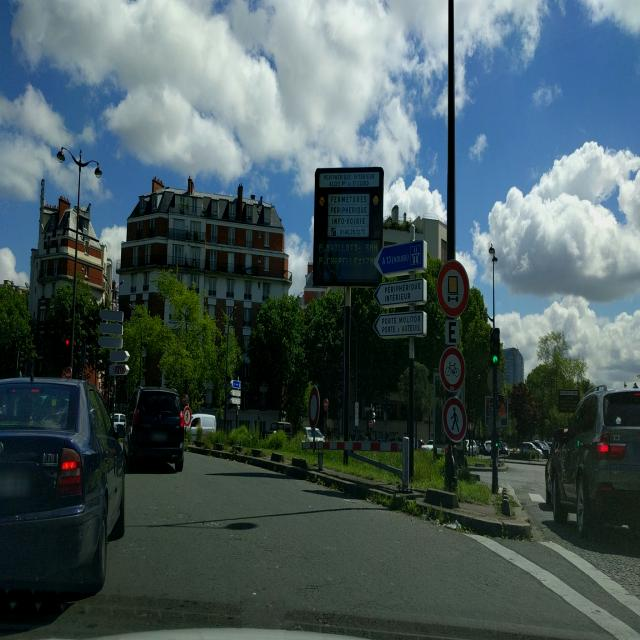car: (0, 376, 126, 600), (544, 383, 640, 544), (126, 386, 185, 472), (186, 412, 217, 439), (521, 440, 549, 458), (266, 420, 292, 438), (304, 428, 326, 448), (112, 410, 127, 436), (465, 439, 477, 458), (499, 442, 510, 456), (483, 440, 492, 454)
